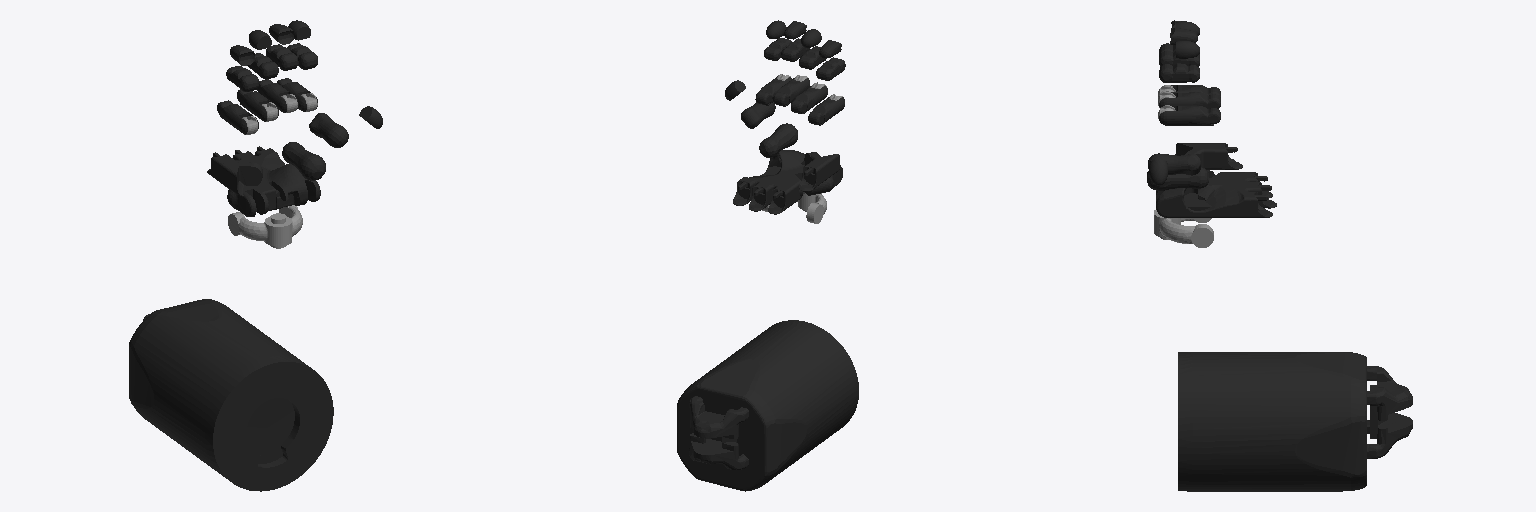
--- Render facts (derived) ---
The picture shows the robot from 3 angles, left to right: view 1: azimuth 30°, elevation 25°; view 2: azimuth 150°, elevation 25°; view 3: azimuth 270°, elevation 25°; orthographic projection.
Robot: shadowhand — 30 links, 29 joints (24 revolute, 5 fixed); root link forearm; default pose: every joint at zero.
Visible links, largest first — view 1: forearm, palm, wrist, lfmetacarpal, thproximal, thmiddle, lfproximal, rfproximal, lfmiddle, mfproximal, mfmiddle; view 2: forearm, palm, lfmetacarpal, thproximal, wrist, rfproximal, lfproximal, mfproximal, thmiddle; view 3: forearm, palm, wrist, lfmetacarpal, ffproximal, thproximal, thmiddle, mfproximal, ffmiddle.
Link boxes in pixels (box(x1,y1,x2,y2)): forearm: box(129, 299, 333, 491); palm: box(217, 146, 320, 216); wrist: box(228, 205, 302, 248); lfmetacarpal: box(207, 152, 262, 195); thproximal: box(282, 142, 325, 180); thmiddle: box(309, 113, 348, 147); lfproximal: box(217, 100, 258, 134); rfproximal: box(237, 89, 278, 121); lfmiddle: box(226, 66, 258, 91); mfproximal: box(257, 79, 298, 112); mfmiddle: box(266, 44, 298, 70); forearm: box(677, 320, 858, 491); palm: box(733, 150, 842, 214); lfmetacarpal: box(799, 152, 840, 191); thproximal: box(759, 123, 797, 157); wrist: box(762, 193, 826, 223); rfproximal: box(791, 86, 827, 113); lfproximal: box(808, 97, 844, 125); mfproximal: box(773, 78, 809, 106); thmiddle: box(741, 102, 775, 128); forearm: box(1178, 352, 1412, 491); palm: box(1156, 170, 1276, 217); wrist: box(1154, 210, 1213, 247); lfmetacarpal: box(1175, 143, 1242, 169); ffproximal: box(1159, 105, 1220, 125); thproximal: box(1147, 167, 1208, 190); thmiddle: box(1148, 153, 1200, 175); mfproximal: box(1159, 92, 1220, 108); ffmiddle: box(1159, 63, 1199, 82).
Size in the robot's own frame: 0.1787 by 0.2583 by 0.4911 metres.
23 mesh visuals loaded from 11 distinct referenced files (11 OBJ).

The robot description file, URDF, robot "shadowhand":
<robot name="shadowhand">
  <material name="Blue">
    <color rgba="0.0 0.0 0.8 1.0" />
  </material>
  <material name="Green">
    <color rgba="0.0 0.8 0.0 1.0" />
  </material>
  <material name="Grey">
    <color rgba="0.2 0.2 0.2 1.0" />
  </material>
  <material name="LightGrey">
    <color rgba="0.6 0.6 0.6 1.0" />
  </material>
  <material name="Red">
    <color rgba="0.8 0.0 0.0 1.0" />
  </material>
  <material name="White">
    <color rgba="1.0 1.0 1.0 1.0" />
  </material>
  <link name="forearm">
    <inertial>
      <origin rpy="0 0 0" xyz="0 0 0.09" />
      <mass value="3.0" />
      <inertia ixx="1.0" ixy="0.0" ixz="0.0" iyy="1.0" iyz="0.0" izz="1.0" />
    </inertial>
    <visual>
      <origin rpy="0 0 0" xyz="0 0 0" />
      <geometry name="shadow_forearm_geom">
        <mesh filename="package://sr_grasp_description/meshes/forearm.obj" scale="0.1 0.1 0.1" />
      </geometry>
      <material name="Grey" />
    </visual>
    <collision>
      <origin rpy="0 0 0" xyz="0 0 0.09" />
      <geometry name="shadow_forearm_collision">
        <cylinder length="0.180" radius="0.06" />
      </geometry>
    </collision>
  </link>
  <link name="wrist">
    <inertial>
      <origin rpy="0 0 0" xyz="0 0.0 0.0" />

      <mass value="0.1" />
      <inertia ixx="0.120" ixy="0.0" ixz="0.0" iyy="0.148" iyz="0.0" izz="0.0438" />
    </inertial>
    <visual>
      <origin rpy="0 0 0" xyz="0 0 0" />
      <geometry name="wrist_visual">
        <mesh filename="package://sr_grasp_description/meshes/wrist.obj" scale="0.1 0.1 0.1" />
      </geometry>
      <material name="LightGrey" />
    </visual>
    <collision>
      <origin rpy="0 0 0" xyz="0 0 0" />
      <geometry name="wrist_collision_geom">
        <box size="0.02 0.02 0.02" />
      </geometry>
    </collision>
  </link>
  <joint name="WRJ2" type="revolute">
    <parent link="forearm" />
    <child link="wrist" />

    <origin rpy="0 0 0" xyz="0 -0.010 0.213" />
    <axis xyz="0 1 0" />
    <limit effort="5" lower="-0.52359877559829882" upper="0.17453292519943295" velocity="1.0" />
    <dynamics damping="100.5" />
  </joint>
  <link name="palm">
    <inertial>
      <origin rpy="0 0 0" xyz="0 0 0.035" />
      <mass value="0.3" />
      <inertia ixx="0.5" ixy="0.0" ixz="0.0" iyy="0.5" iyz="0.0" izz="0.3" />
    </inertial>
    <visual>
      <origin rpy="0 0 0" xyz="0 0 0" />
      <geometry name="palm_visual">
        <mesh filename="package://sr_grasp_description/meshes/palm.obj" scale="0.1 0.1 0.1" />
      </geometry>
      <material name="Grey" />
    </visual>
    <collision>
      <origin rpy="0 0 0" xyz="0.005 0 0.035" />
      <geometry name="palm_collision_geom">
        <box size="0.05 0.02 0.07" />
      </geometry>
    </collision>
  </link>
  <joint name="WRJ1" type="revolute">
    <parent link="wrist" />
    <child link="palm" />
    <origin rpy="0 0 0" xyz="0 0 0.034" />
    <axis xyz="1 0 0" />
    <limit effort="5" lower="-0.78539816339744828" upper="0.6108652381980153" velocity="1.0" />
    <dynamics damping="100.5" />
  </joint>
  <link name="ffknuckle">
    <inertial>
      <origin rpy="0 0 0" xyz="0 0 0" />

      <mass value="0.008" />
      <inertia ixx="0.0" ixy="0.0" ixz="0.0" iyy="0.1" iyz="0.0" izz="0.0" />
    </inertial>
    <visual>
      <origin rpy="0 0 0" xyz="0 0 0.0005" />
      <geometry name="knuckle_visual">
        <mesh filename="package://sr_grasp_description/meshes/knuckle.obj" scale="0.1 0.1 0.1" />
      </geometry>
      <material name="LightGrey" />
    </visual>
    <collision>
      <origin rpy="0 0 0" xyz="0 0 0" />
      <geometry name="knuckle_collision_geom">
        <box size="0.005 0.005 0.005" />
      </geometry>
    </collision>
  </link>
  <joint name="FFJ4" type="revolute">
    <parent link="palm" />
    <child link="ffknuckle" />

    <origin rpy="0 0 0" xyz="0.033 0 0.095" />
    <axis xyz="0 -1 0" />
    <limit effort="100" lower="-0.43633231299858238" upper="0.43633231299858238" velocity="1.0" />
    <dynamics damping="50.5" />
  </joint>
  <link name="ffproximal">
    <inertial>
      <mass value="0.014" />
      <origin xyz="0 0 0.0225" />
      <inertia ixx="0.1" ixy="0.0" ixz="0.0" iyy="0.1" iyz="0.0" izz="0.0" />
    </inertial>
    <visual>
      <origin rpy="0 0 0" xyz="0 0 0" />
      <geometry name="proximal_visual">
        <mesh filename="package://sr_grasp_description/meshes/F3.obj" scale="0.1 0.1 0.1" />
      </geometry>
      <material name="Grey" />
    </visual>
    <collision>
      <origin rpy="0 0 0 " xyz="0 0 0.025" />
      <geometry name="proximal_collision_geom">
        <box size="0.008 0.008 0.04" />
      </geometry>
    </collision>
  </link>
  <joint name="FFJ3" type="revolute">
    <parent link="ffknuckle" />
    <child link="ffproximal" />
    <origin rpy="0 0 0" xyz="0 0 0" />
    <axis xyz="1 0 0" />
    <limit effort="100" lower="0" upper="1.57079632679" velocity="1.0" />
    <dynamics damping="50.5" />
  </joint>
  <link name="ffmiddle">
    <inertial>
      <origin rpy="0 0 0" xyz="0 0 0.0125" />
      <mass value="0.012" />
      <inertia ixx="0.1" ixy="0.0" ixz="0.0" iyy="0.1" iyz="0.0" izz="0.0" />
    </inertial>
    <visual>
      <origin rpy="0 0 0" xyz="0 0 0" />
      <geometry name="middle_visual">
        <mesh filename="package://sr_grasp_description/meshes/F2.obj" scale="0.1 0.1 0.1" />
      </geometry>
      <material name="Grey" />
    </visual>
    <collision>
      <origin rpy="0 0 0" xyz="0 0 0.0125" />
      <geometry name="middle_collision_geom">
        <box size="0.008 0.008 0.015" />
      </geometry>
    </collision>
  </link>
  <joint name="FFJ2" type="revolute">
    <parent link="ffproximal" />
    <child link="ffmiddle" />
    <origin rpy="0 0 0" xyz="0 0 0.045" />
    <axis xyz="1 0 0" />
    <limit effort="100" lower="0" upper="1.57079632679" velocity="1.0" />
    <dynamics damping="50.5" />
  </joint>
  <link name="ffdistal">
    <inertial>
      <mass value="0.010" />
      <origin xyz="0 0 0.013" />
      <inertia ixx="0.1" ixy="0.0" ixz="0.0" iyy="0.1" iyz="0.0" izz="0.0" />
    </inertial>
    <visual>
      <origin rpy="0 0 0" xyz="0 0 0" />
      <geometry name="distal_visual">
        <mesh filename="package://sr_grasp_description/meshes/distal_ellipsoid.obj" scale="0.1 0.1 0.1" />
      </geometry>
      <material name="Grey" />
    </visual>

    <collision>
      <origin rpy="0 0 0" xyz="0 0 0" />
      <geometry name="distal_collision_geom">
        <mesh filename="package://sr_grasp_description/meshes/distal_ellipsoid.obj" scale="0.1 0.1 0.1" />
      </geometry>
    </collision>
  </link>
  <joint name="FFJ1" type="revolute">
    <parent link="ffmiddle" />
    <child link="ffdistal" />
    <origin rpy="0 0 0" xyz="0 0 0.025" />
    <axis xyz="1 0 0" />
    <limit effort="100" lower="0" upper="1.57079632679" velocity="1.0" />
    <dynamics damping="50.5" />
  </joint>
  <link name="fftip">
    <inertial>
      <mass value="0.001" />
      <inertia ixx="0.0" ixy="0.0" ixz="0.0" iyy="0.0" iyz="0.0" izz="0.0" />
    </inertial>
  </link>
  <joint name="FFtip" type="fixed">
    <parent link="ffdistal" />
    <child link="fftip" />
    <origin rpy="0 0 0" xyz="0 0 0.026" />
  </joint>
  <link name="mfknuckle">
    <inertial>
      <origin rpy="0 0 0" xyz="0 0 0" />

      <mass value="0.008" />
      <inertia ixx="0.0" ixy="0.0" ixz="0.0" iyy="0.1" iyz="0.0" izz="0.0" />
    </inertial>
    <visual>
      <origin rpy="0 0 0" xyz="0 0 0.0005" />
      <geometry name="knuckle_visual">
        <mesh filename="package://sr_grasp_description/meshes/knuckle.obj" scale="0.1 0.1 0.1" />
      </geometry>
      <material name="LightGrey" />
    </visual>
    <collision>
      <origin rpy="0 0 0" xyz="0 0 0" />
      <geometry name="knuckle_collision_geom">
        <box size="0.005 0.005 0.005" />
      </geometry>
    </collision>
  </link>
  <joint name="MFJ4" type="revolute">
    <parent link="palm" />
    <child link="mfknuckle" />

    <origin rpy="0 0 0" xyz="0.011 0 0.099" />
    <axis xyz="0 -1 0" />
    <limit effort="100" lower="-0.43633231299858238" upper="0.43633231299858238" velocity="1.0" />
    <dynamics damping="50.5" />
  </joint>
  <link name="mfproximal">
    <inertial>
      <mass value="0.014" />
      <origin xyz="0 0 0.0225" />
      <inertia ixx="0.1" ixy="0.0" ixz="0.0" iyy="0.1" iyz="0.0" izz="0.0" />
    </inertial>
    <visual>
      <origin rpy="0 0 0" xyz="0 0 0" />
      <geometry name="proximal_visual">
        <mesh filename="package://sr_grasp_description/meshes/F3.obj" scale="0.1 0.1 0.1" />
      </geometry>
      <material name="Grey" />
    </visual>
    <collision>
      <origin rpy="0 0 0 " xyz="0 0 0.025" />
      <geometry name="proximal_collision_geom">
        <box size="0.008 0.008 0.04" />
      </geometry>
    </collision>
  </link>
  <joint name="MFJ3" type="revolute">
    <parent link="mfknuckle" />
    <child link="mfproximal" />
    <origin rpy="0 0 0" xyz="0 0 0" />
    <axis xyz="1 0 0" />
    <limit effort="100" lower="0" upper="1.57079632679" velocity="1.0" />
    <dynamics damping="50.5" />
  </joint>
  <link name="mfmiddle">
    <inertial>
      <origin rpy="0 0 0" xyz="0 0 0.0125" />
      <mass value="0.012" />
      <inertia ixx="0.1" ixy="0.0" ixz="0.0" iyy="0.1" iyz="0.0" izz="0.0" />
    </inertial>
    <visual>
      <origin rpy="0 0 0" xyz="0 0 0" />
      <geometry name="middle_visual">
        <mesh filename="package://sr_grasp_description/meshes/F2.obj" scale="0.1 0.1 0.1" />
      </geometry>
      <material name="Grey" />
    </visual>
    <collision>
      <origin rpy="0 0 0" xyz="0 0 0.0125" />
      <geometry name="middle_collision_geom">
        <box size="0.008 0.008 0.015" />
      </geometry>
    </collision>
  </link>
  <joint name="MFJ2" type="revolute">
    <parent link="mfproximal" />
    <child link="mfmiddle" />
    <origin rpy="0 0 0" xyz="0 0 0.045" />
    <axis xyz="1 0 0" />
    <limit effort="100" lower="0" upper="1.57079632679" velocity="1.0" />
    <dynamics damping="50.5" />
  </joint>
  <link name="mfdistal">
    <inertial>
      <mass value="0.010" />
      <origin xyz="0 0 0.013" />
      <inertia ixx="0.1" ixy="0.0" ixz="0.0" iyy="0.1" iyz="0.0" izz="0.0" />
    </inertial>
    <visual>
      <origin rpy="0 0 0" xyz="0 0 0" />
      <geometry name="distal_visual">
        <mesh filename="package://sr_grasp_description/meshes/F1.obj" scale="0.1 0.1 0.1" />
      </geometry>
      <material name="Grey" />
    </visual>

    <collision>
      <origin rpy="0 0 0" xyz="0 0 0" />
      <geometry name="distal_collision_geom">
        <mesh filename="package://sr_grasp_description/meshes/F1.obj" scale="0.1 0.1 0.1" />
      </geometry>
    </collision>
  </link>
  <joint name="MFJ1" type="revolute">
    <parent link="mfmiddle" />
    <child link="mfdistal" />
    <origin rpy="0 0 0" xyz="0 0 0.025" />
    <axis xyz="1 0 0" />
    <limit effort="100" lower="0" upper="1.57079632679" velocity="1.0" />
    <dynamics damping="50.5" />
  </joint>
  <link name="mftip">
    <inertial>
      <mass value="0.001" />
      <inertia ixx="0.0" ixy="0.0" ixz="0.0" iyy="0.0" iyz="0.0" izz="0.0" />
    </inertial>
  </link>
  <joint name="MFtip" type="fixed">
    <parent link="mfdistal" />
    <child link="mftip" />
    <origin rpy="0 0 0" xyz="0 0 0.026" />
  </joint>
  <link name="rfknuckle">
    <inertial>
      <origin rpy="0 0 0" xyz="0 0 0" />

      <mass value="0.008" />
      <inertia ixx="0.0" ixy="0.0" ixz="0.0" iyy="0.1" iyz="0.0" izz="0.0" />
    </inertial>
    <visual>
      <origin rpy="0 0 0" xyz="0 0 0.0005" />
      <geometry name="knuckle_visual">
        <mesh filename="package://sr_grasp_description/meshes/knuckle.obj" scale="0.1 0.1 0.1" />
      </geometry>
      <material name="LightGrey" />
    </visual>
    <collision>
      <origin rpy="0 0 0" xyz="0 0 0" />
      <geometry name="knuckle_collision_geom">
        <box size="0.005 0.005 0.005" />
      </geometry>
    </collision>
  </link>
  <joint name="RFJ4" type="revolute">
    <parent link="palm" />
    <child link="rfknuckle" />

    <origin rpy="0 0 0" xyz="-0.011 0 0.095" />
    <axis xyz="0 1 0" />
    <limit effort="100" lower="-0.43633231299858238" upper="0.43633231299858238" velocity="1.0" />
    <dynamics damping="50.5" />
  </joint>
  <link name="rfproximal">
    <inertial>
      <mass value="0.014" />
      <origin xyz="0 0 0.0225" />
      <inertia ixx="0.1" ixy="0.0" ixz="0.0" iyy="0.1" iyz="0.0" izz="0.0" />
    </inertial>
    <visual>
      <origin rpy="0 0 0" xyz="0 0 0" />
      <geometry name="proximal_visual">
        <mesh filename="package://sr_grasp_description/meshes/F3.obj" scale="0.1 0.1 0.1" />
      </geometry>
      <material name="Grey" />
    </visual>
    <collision>
      <origin rpy="0 0 0 " xyz="0 0 0.025" />
      <geometry name="proximal_collision_geom">
        <box size="0.008 0.008 0.04" />
      </geometry>
    </collision>
  </link>
  <joint name="RFJ3" type="revolute">
    <parent link="rfknuckle" />
    <child link="rfproximal" />
    <origin rpy="0 0 0" xyz="0 0 0" />
    <axis xyz="1 0 0" />
    <limit effort="100" lower="0" upper="1.57079632679" velocity="1.0" />
    <dynamics damping="50.5" />
  </joint>
  <link name="rfmiddle">
    <inertial>
      <origin rpy="0 0 0" xyz="0 0 0.0125" />
      <mass value="0.012" />
      <inertia ixx="0.1" ixy="0.0" ixz="0.0" iyy="0.1" iyz="0.0" izz="0.0" />
    </inertial>
    <visual>
      <origin rpy="0 0 0" xyz="0 0 0" />
      <geometry name="middle_visual">
        <mesh filename="package://sr_grasp_description/meshes/F2.obj" scale="0.1 0.1 0.1" />
      </geometry>
      <material name="Grey" />
    </visual>
    <collision>
      <origin rpy="0 0 0" xyz="0 0 0.0125" />
      <geometry name="middle_collision_geom">
        <box size="0.008 0.008 0.015" />
      </geometry>
    </collision>
  </link>
  <joint name="RFJ2" type="revolute">
    <parent link="rfproximal" />
    <child link="rfmiddle" />
    <origin rpy="0 0 0" xyz="0 0 0.045" />
    <axis xyz="1 0 0" />
    <limit effort="100" lower="0" upper="1.57079632679" velocity="1.0" />
    <dynamics damping="50.5" />
  </joint>
  <link name="rfdistal">
    <inertial>
      <mass value="0.010" />
      <origin xyz="0 0 0.013" />
      <inertia ixx="0.1" ixy="0.0" ixz="0.0" iyy="0.1" iyz="0.0" izz="0.0" />
    </inertial>
    <visual>
      <origin rpy="0 0 0" xyz="0 0 0" />
      <geometry name="distal_visual">
        <mesh filename="package://sr_grasp_description/meshes/distal_ellipsoid.obj" scale="0.1 0.1 0.1" />
      </geometry>
      <material name="Grey" />
    </visual>

    <collision>
      <origin rpy="0 0 0" xyz="0 0 0" />
      <geometry name="distal_collision_geom">
        <mesh filename="package://sr_grasp_description/meshes/distal_ellipsoid.obj" scale="0.1 0.1 0.1" />
      </geometry>
    </collision>
  </link>
  <joint name="RFJ1" type="revolute">
    <parent link="rfmiddle" />
    <child link="rfdistal" />
    <origin rpy="0 0 0" xyz="0 0 0.025" />
    <axis xyz="1 0 0" />
    <limit effort="100" lower="0" upper="1.57079632679" velocity="1.0" />
    <dynamics damping="50.5" />
  </joint>
  <link name="rftip">
    <inertial>
      <mass value="0.001" />
      <inertia ixx="0.0" ixy="0.0" ixz="0.0" iyy="0.0" iyz="0.0" izz="0.0" />
    </inertial>
  </link>
  <joint name="RFtip" type="fixed">
    <parent link="rfdistal" />
    <child link="rftip" />
    <origin rpy="0 0 0" xyz="0 0 0.026" />
  </joint>
  <link name="lfmetacarpal">
    <inertial>
      <origin rpy="0 0 0" xyz="0 0 0.04" />
      <mass value="0.075" />
      <inertia ixx="0.1" ixy="0.0" ixz="0.0" iyy="0.1" iyz="0.0" izz="0.1" />
    </inertial>
    <visual>
      <origin rpy="0 0 0" xyz="0 0 0" />
      <geometry name="lfmetacarpal_visual">
        <mesh filename="package://sr_grasp_description/meshes/lfmetacarpal.obj" scale="0.1 0.1 0.1" />
      </geometry>
      <material name="Grey" />
    </visual>
    <collision>
      <origin rpy="0 0 0" xyz="0 0 0.04" />
      <geometry name="lfmetacarpal_collision_geom">
        <box size="0.008 0.008 0.03" />
      </geometry>
    </collision>
  </link>
  <joint name="LFJ5" type="revolute">
    <parent link="palm" />
    <child link="lfmetacarpal" />
    <origin rpy="0 0 0" xyz="-0.033 0 0.02071" />
    <axis xyz="0.573576436 0 0.819152044" />
    <limit effort="100" lower="0" upper="0.69813170079773179" velocity="1.0" />
    <dynamics damping="50.5" />
  </joint>
  <link name="lfknuckle">
    <inertial>
      <origin rpy="0 0 0" xyz="0 0 0.06579" />
      <mass value="0.008" />
      <inertia ixx="0.1" ixy="0.0" ixz="0.0" iyy="0.1" iyz="0.0" izz="0.1" />
    </inertial>
    <visual>
      <origin rpy="0 0 0" xyz="0 0 0" />
      <geometry name="knuckle_visual">
        <mesh filename="package://sr_grasp_description/meshes/knuckle.obj" scale="0.1 0.1 0.1" />
      </geometry>
      <material name="LightGrey" />
    </visual>
    <collision>
      <origin rpy="0 0 0" xyz="0 0 0" />
      <geometry name="knuckle_collision_geom">
        <box size="0.005 0.005 0.005" />
      </geometry>
    </collision>
  </link>
  <joint name="LFJ4" type="revolute">
    <parent link="lfmetacarpal" />
    <child link="lfknuckle" />
    <origin rpy="0 0 0" xyz="0 0 0.06579" />
    <axis xyz="0 1 0" />
    <limit effort="100" lower="-0.43633231299858238" upper="0.43633231299858238" velocity="1.0" />
    <dynamics damping="50.5" />
  </joint>
  <link name="lfproximal">
    <inertial>
      <mass value="0.014" />
      <origin xyz="0 0 0.0225" />
      <inertia ixx="0.1" ixy="0.0" ixz="0.0" iyy="0.1" iyz="0.0" izz="0.0" />
    </inertial>
    <visual>
      <origin rpy="0 0 0" xyz="0 0 0" />
      <geometry name="proximal_visual">
        <mesh filename="package://sr_grasp_description/meshes/F3.obj" scale="0.1 0.1 0.1" />
      </geometry>
      <material name="Grey" />
    </visual>
    <collision>
      <origin rpy="0 0 0 " xyz="0 0 0.025" />
      <geometry name="proximal_collision_geom">
        <box size="0.008 0.008 0.04" />
      </geometry>
    </collision>
  </link>
  <joint name="LFJ3" type="revolute">
    <parent link="lfknuckle" />
    <child link="lfproximal" />
    <origin rpy="0 0 0" xyz="0 0 0" />
    <axis xyz="1 0 0" />
    <limit effort="100" lower="0" upper="1.57079632679" velocity="1.0" />
    <dynamics damping="50.5" />
  </joint>
  <link name="lfmiddle">
    <inertial>
      <origin rpy="0 0 0" xyz="0 0 0.0125" />
      <mass value="0.012" />
      <inertia ixx="0.1" ixy="0.0" ixz="0.0" iyy="0.1" iyz="0.0" izz="0.0" />
    </inertial>
    <visual>
      <origin rpy="0 0 0" xyz="0 0 0" />
      <geometry name="middle_visual">
        <mesh filename="package://sr_grasp_description/meshes/F2.obj" scale="0.1 0.1 0.1" />
      </geometry>
      <material name="Grey" />
    </visual>
    <collision>
      <origin rpy="0 0 0" xyz="0 0 0.0125" />
      <geometry name="middle_collision_geom">
        <box size="0.008 0.008 0.015" />
      </geometry>
    </collision>
  </link>
  <joint name="LFJ2" type="revolute">
    <parent link="lfproximal" />
    <child link="lfmiddle" />
    <origin rpy="0 0 0" xyz="0 0 0.045" />
    <axis xyz="1 0 0" />
    <limit effort="100" lower="0" upper="1.57079632679" velocity="1.0" />
    <dynamics damping="50.5" />
  </joint>
  <link name="lfdistal">
    <inertial>
      <mass value="0.010" />
      <origin xyz="0 0 0.013" />
      <inertia ixx="0.1" ixy="0.0" ixz="0.0" iyy="0.1" iyz="0.0" izz="0.0" />
    </inertial>
    <visual>
      <origin rpy="0 0 0" xyz="0 0 0" />
      <geometry name="distal_visual">
        <mesh filename="package://sr_grasp_description/meshes/F1.obj" scale="0.1 0.1 0.1" />
      </geometry>
      <material name="Grey" />
    </visual>

    <collision>
      <origin rpy="0 0 0" xyz="0 0 0" />
      <geometry name="distal_collision_geom">
        <mesh filename="package://sr_grasp_description/meshes/F1.obj" scale="0.1 0.1 0.1" />
      </geometry>
    </collision>
  </link>
  <joint name="LFJ1" type="revolute">
    <parent link="lfmiddle" />
    <child link="lfdistal" />
    <origin rpy="0 0 0" xyz="0 0 0.025" />
    <axis xyz="1 0 0" />
    <limit effort="100" lower="0" upper="1.57079632679" velocity="1.0" />
    <dynamics damping="50.5" />
  </joint>
  <link name="lftip">
    <inertial>
      <mass value="0.001" />
      <inertia ixx="0.0" ixy="0.0" ixz="0.0" iyy="0.0" iyz="0.0" izz="0.0" />
    </inertial>
  </link>
  <joint name="LFtip" type="fixed">
    <parent link="lfdistal" />
    <child link="lftip" />
    <origin rpy="0 0 0" xyz="0 0 0.026" />
  </joint>
  <link name="thbase">
    <inertial>
      <mass value="0.010" />
      <origin rpy="0 0 0" xyz="0 0 0" />
      <inertia ixx="0.0" ixy="0.0" ixz="0.0" iyy="0.0" iyz="0.0" izz="0.1" />
    </inertial>
    <visual>
      <origin rpy="0 0 0" xyz="0 0 0" />
      <geometry name="thbase_visual">
        <box size="0.001 0.001 0.001" />
      </geometry>
      <material name="shadow_thbase_material">
        <color rgba="0.5 0.5 0.5 1.0" />
      </material>
    </visual>
    <collision>
      <origin rpy="0 0 0 " xyz="0 0 0" />
      <geometry name="thbase_collision_geom">
        <box size="0.001 0.001 0.001" />
      </geometry>
    </collision>
  </link>
  <joint name="THJ5" type="revolute">
    <parent link="palm" />
    <child link="thbase" />
    <origin rpy="0 0.785398163397 0" xyz="0.034 -0.0085 0.029" />
    <axis xyz="0 0 -1.0" />
    <limit effort="100" lower="-1.047" upper="1.047" velocity="1.0" />
    <dynamics damping="50.5" />
  </joint>
  <link name="thproximal">
    <inertial>
      <mass value="0.016" />
      <origin rpy="0 0 0" xyz="0 0 0.019" />
      <inertia ixx="0.1" ixy="0.0" ixz="0.0" iyy="0.1" iyz="0.0" izz="0.1" />
    </inertial>
    <visual>
      <origin rpy="0 0 0" xyz="0 0 0" />
      <geometry name="thproximal_visual">
        <mesh filename="package://sr_grasp_description/meshes/TH3_z.obj" scale="0.1 0.1 0.1" />
      </geometry>
      <material name="shadow_thproximal_material">
        <color rgba="0.2 0.2 0.2 1.0" />
      </material>
    </visual>
    <collision>
      <origin rpy="0 0 0" xyz="0 0 0.019" />
      <geometry name="thproximal_collision_geom">
        <box size="0.008 0.008 0.020" />
      </geometry>
    </collision>
  </link>
  <joint name="THJ4" type="revolute">
    <parent link="thbase" />
    <child link="thproximal" />
    <origin rpy="0 0 0" xyz="0 0 0" />
    <axis xyz="1.0 0 0" />
    <limit effort="100" lower="0" upper="1.309" velocity="1.0" />
    <dynamics damping="50.5" />
  </joint>
  <link name="thhub">
    <inertial>
      <mass value="0.002" />
      <origin rpy="0 0 0" xyz="0 0 0" />
      <inertia ixx="0.1" ixy="0.0" ixz="0.0" iyy="0.1" iyz="0.0" izz="0.1" />
    </inertial>
    <visual>
      <origin rpy="0 0 0" xyz="0 0 0" />
      <geometry name="thhub_visual">
        <box size="0.001 0.001 0.001" />
      </geometry>
      <material name="shadow_thhub_material">
        <color rgba="0.7 0.7 0.7 1.0" />
      </material>
    </visual>
    <collision>
      <origin rpy="0 0 0 " xyz="0 0 0" />
      <geometry name="thhub_collision_geom">
        <box size="0.001 0.001 0.001" />
      </geometry>
    </collision>
  </link>
  <joint name="THJ3" type="revolute">
    <parent link="thproximal" />
    <child link="thhub" />
    <origin rpy="0 0 0" xyz="0 0 0.038" />
    <axis xyz="1 0 0" />
    <limit effort="100" lower="-0.2618" upper="0.2618" velocity="1.0" />
    <dynamics damping="50.5" />
  </joint>
  <link name="thmiddle">
    <inertial>
      <mass value="0.016" />
      <origin rpy="0 0 0" xyz="0 0 0.016" />
      <inertia ixx="0.1" ixy="0.0" ixz="0.0" iyy="0.1" iyz="0.0" izz="0.1" />
    </inertial>
    <visual>
      <origin rpy="0 0 0" xyz="0 0 0" />
      <geometry name="thmiddle_visual">
        <mesh filename="package://sr_grasp_description/meshes/TH2_z.obj" scale="0.1 0.1 0.1" />
      </geometry>
      <material name="shadow_thmiddle_material">
        <color rgba="0.2 0.2 0.2 1.0" />
      </material>
    </visual>
    <collision>
      <origin rpy="0 0 0 " xyz="0 0 0.016" />
      <geometry name="thmiddle_collision_geom">
        <box size="0.008 0.008 0.015" />
      </geometry>
    </collision>
  </link>
  <joint name="THJ2" type="revolute">
    <parent link="thhub" />
    <child link="thmiddle" />
    <origin rpy="0 0 0" xyz="0 0 0" />
    <axis xyz="0 -1 0" />
    <limit effort="100" lower="-0.5237" upper="0.5237" velocity="1.0" />
    <dynamics damping="50.5" />
  </joint>
  <link name="thdistal">
    <inertial>
      <mass value="0.016" />
      <origin rpy="0 0 0" xyz="0 0 0.01375" />
      <inertia ixx="0.1" ixy="0.0" ixz="0.0" iyy="0.1" iyz="0.0" izz="0.1" />
    </inertial>
    <visual>
      <origin rpy="0 0 0" xyz="0 0.002 0.0025" />
      <geometry name="thdistal_visual">
        <mesh filename="package://sr_grasp_description/meshes/distal_ellipsoid.obj" scale="0.1 0.1 0.1" />
      </geometry>
      <material name="shadow_thmiddle_material">
        <color rgba="0.2 0.2 0.2 1.0" />
      </material>
    </visual>
    <collision>
      <origin rpy="0 0 0 " xyz="0 0.002 0.0025" />
      <geometry name="thmiddle_collision_geom">
        <mesh filename="package://sr_grasp_description/meshes/distal_ellipsoid.obj" scale="0.1 0.1 0.1" />
      </geometry>
    </collision>
  </link>
  <joint name="THJ1" type="revolute">
    <parent link="thmiddle" />
    <child link="thdistal" />
    <origin rpy="0 0 -1.570796327" xyz="0 0 0.032" />
    <axis xyz="1 0 0" />
    <limit effort="100" lower="0" upper="1.571" velocity="1.0" />
    <dynamics damping="50.5" />
  </joint>
  <link name="thtip">
    <inertial>
      <mass value="0.001" />
      <inertia ixx="0.0" ixy="0.0" ixz="0.0" iyy="0.0" iyz="0.0" izz="0.0" />
    </inertial>
  </link>
  <joint name="thtip" type="fixed">
    <parent link="thdistal" />
    <child link="thtip" />
    <origin rpy="0 0 0" xyz="0 0 0.0275" />
  </joint>
  </robot>
